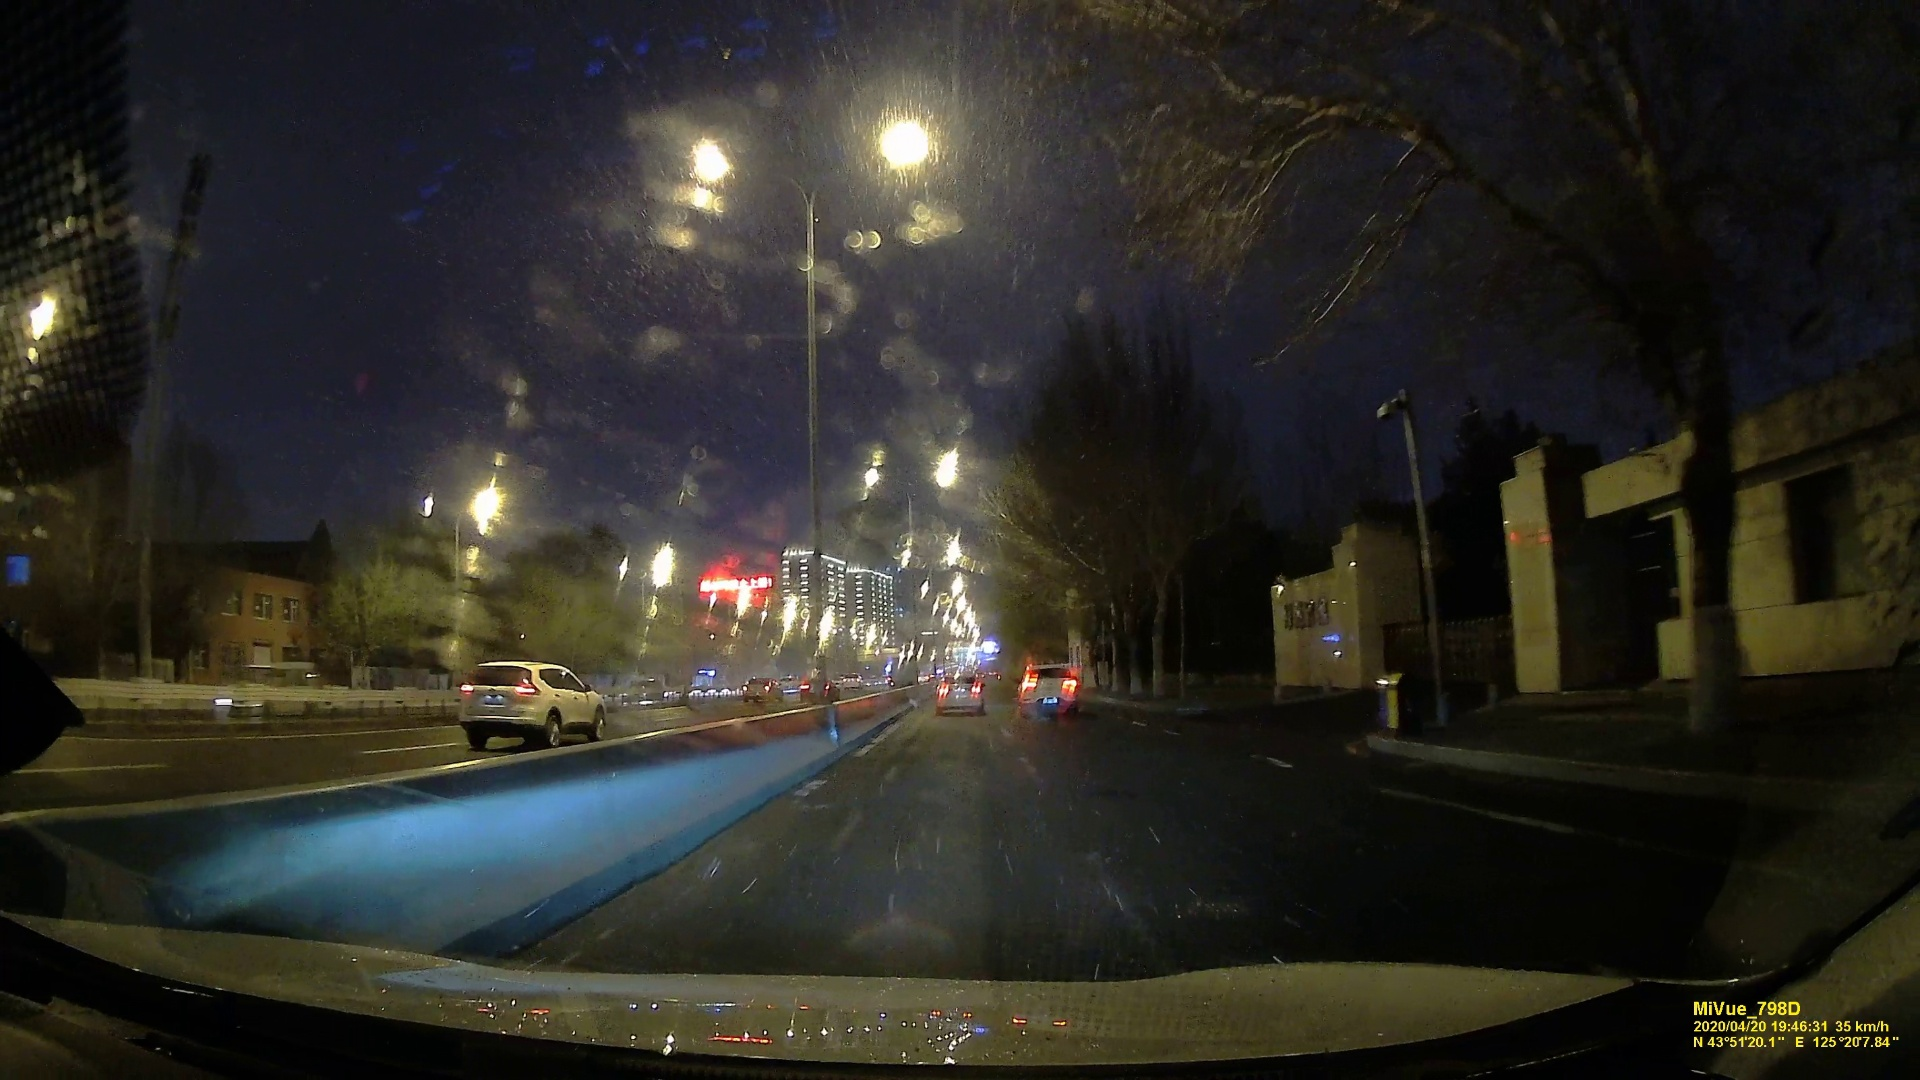vehicle: (454, 655, 603, 746), (1023, 665, 1081, 712), (936, 674, 985, 717), (742, 676, 785, 702)
